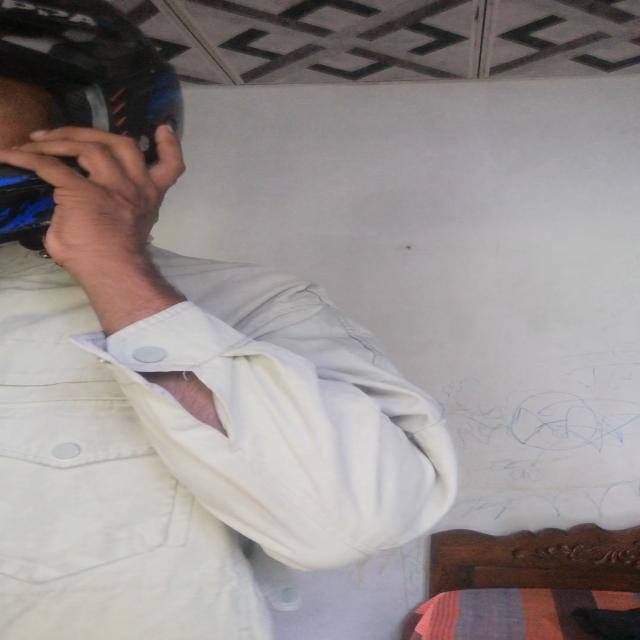Helmet_Wearer: (0, 0, 201, 274)
Jacket_Wearer: (0, 226, 397, 626)
Person: (0, 1, 458, 640)
